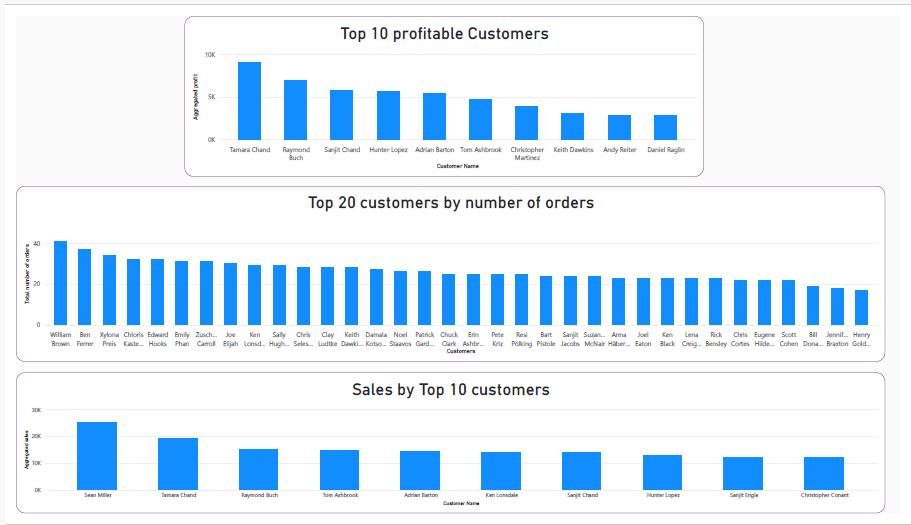

The page's visual inventory and layout, read from the dashboard file:
{"tool":"powerbi","page":{"name":"Customer Analysis","canvas":[1920,1080],"ordinal":2},"visuals":[{"type":"clusteredColumnChart","title":"Top 10 profitable Customers","fields":{"Category":["samplesuperstore.Customer Name"],"Y":["Sum(samplesuperstore.Profit)"]},"box":[365.7,0,1128.2,348.7],"z":0},{"type":"clusteredColumnChart","title":"Top 20 customers by number of orders","fields":{"Category":["samplesuperstore.Customer Name"],"Y":["CountNonNull(samplesuperstore.Order ID)"]},"box":[0,368.5,1887.9,382.7],"z":1000},{"type":"clusteredColumnChart","title":"Sales by Top 10 customers","fields":{"Category":["samplesuperstore.Customer Name"],"Y":["Sum(samplesuperstore.Sales)"]},"box":[0,773.9,1887.9,306.1],"z":2000}]}

Visuals, with their boxes in screenshot pixels (x1, y1, x2, y2), scaled from the page's 1920x1080 canvas onto the 911x525 screenshot:
"Top 10 profitable Customers" clusteredColumnChart: 174 0 709 170
"Top 20 customers by number of orders" clusteredColumnChart: 0 179 896 365
"Sales by Top 10 customers" clusteredColumnChart: 0 376 896 524
